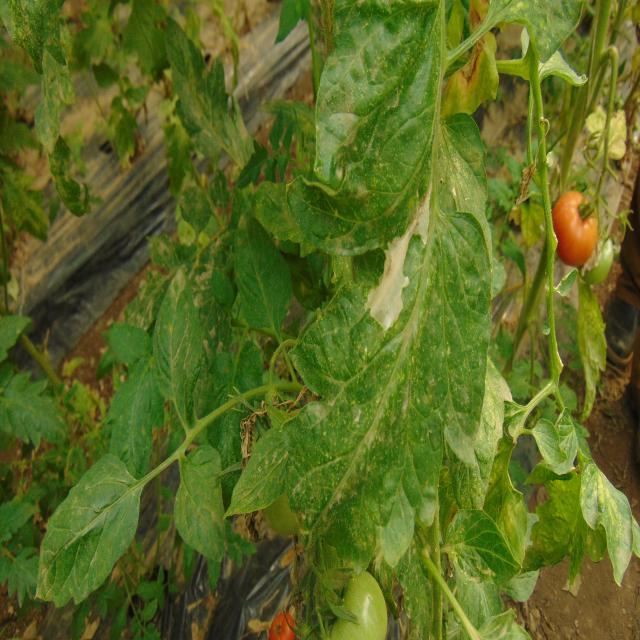Tuta absoluta: (359, 169, 450, 333)
